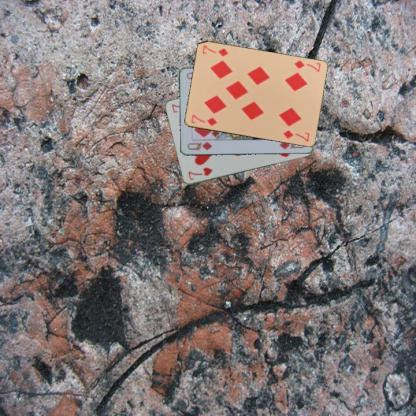7d: (291, 58, 322, 73), (188, 112, 218, 127)
7h: (186, 165, 213, 182)
Qd: (185, 139, 213, 152)
